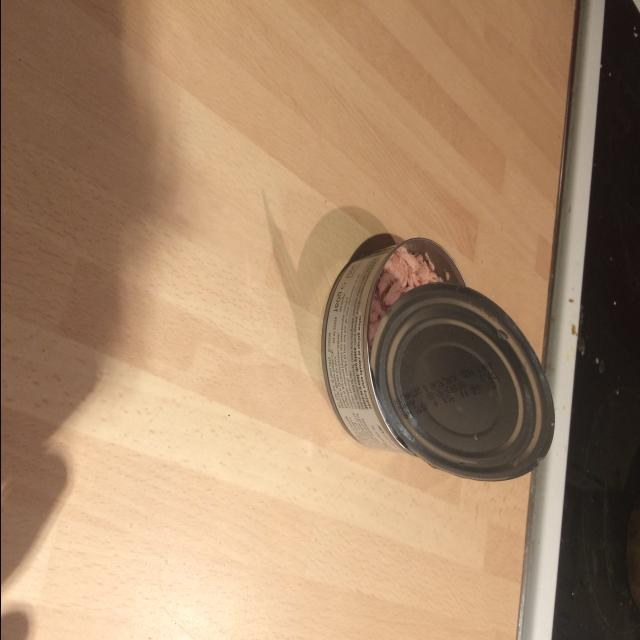Food Can: (320, 238, 554, 481)
Food waste: (368, 247, 442, 348)
